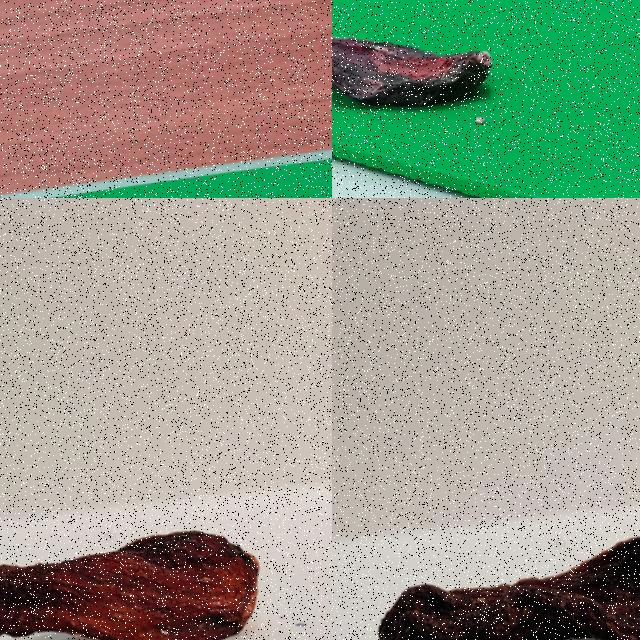Flat_cocoabeans: (0, 462, 328, 639), (332, 472, 639, 639), (332, 0, 529, 158)
